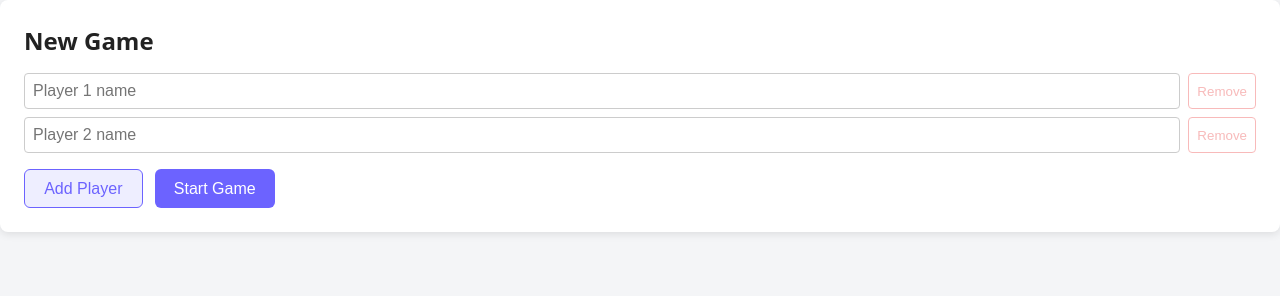
it: NewGameForm › Add Player button appends a new input row
Click the button "Add Player" at (83, 189), box [24,169,143,208]
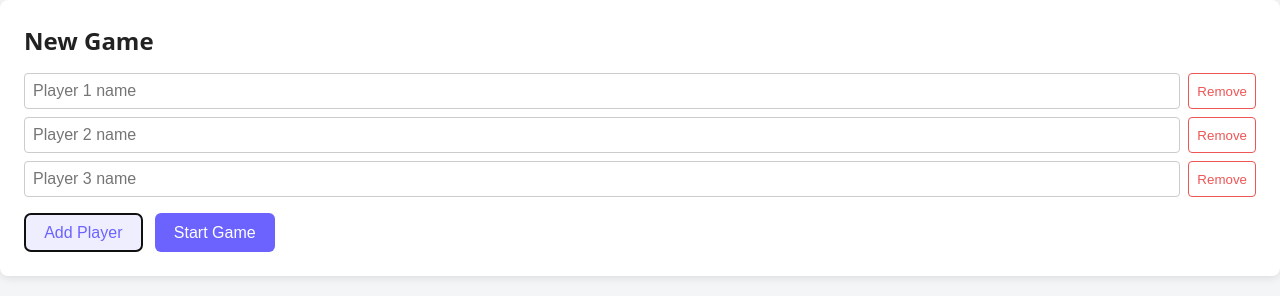
Now the number of fields is 3, box [24,73,1180,109]; [24,117,1180,153]; [24,161,1180,197]
